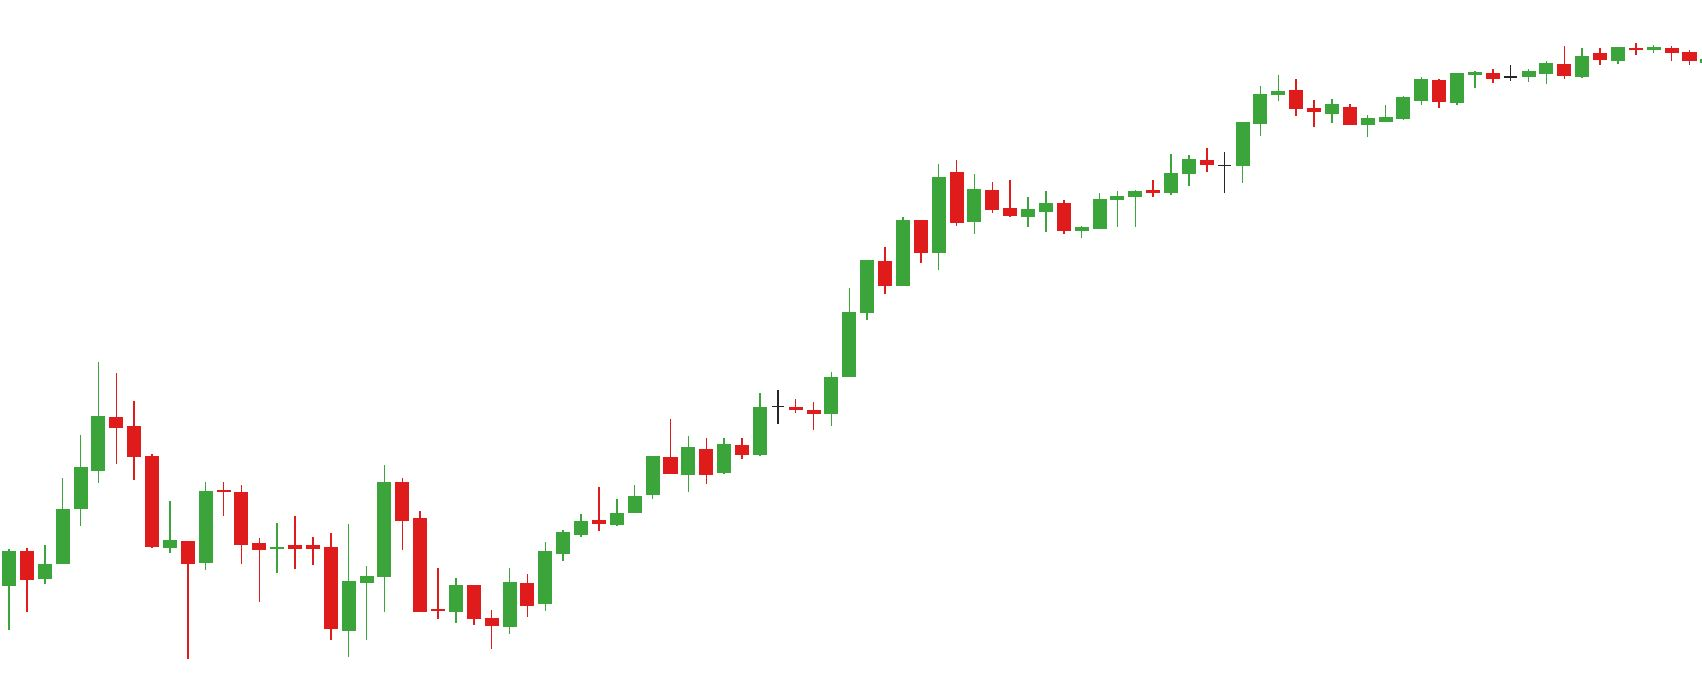buy: (251, 506, 360, 666)
